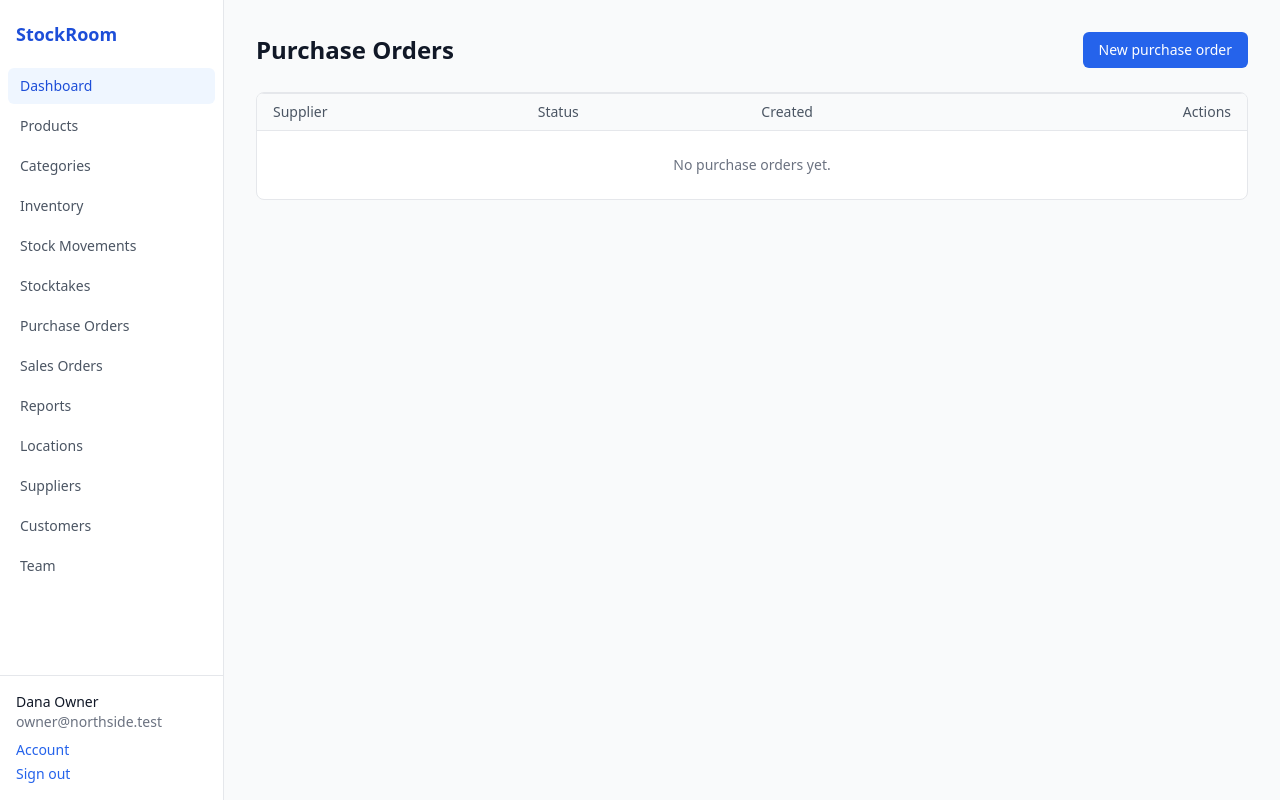
Test: PurchaseOrdersPage create form (Owner-only) › keeps the form open with the server's message when the save fails
expect the text "No purchase orders yet." is shown: met, box [257,130,1247,199]
Click the button "New purchase order": [1165, 50] box [1083,32,1248,68]
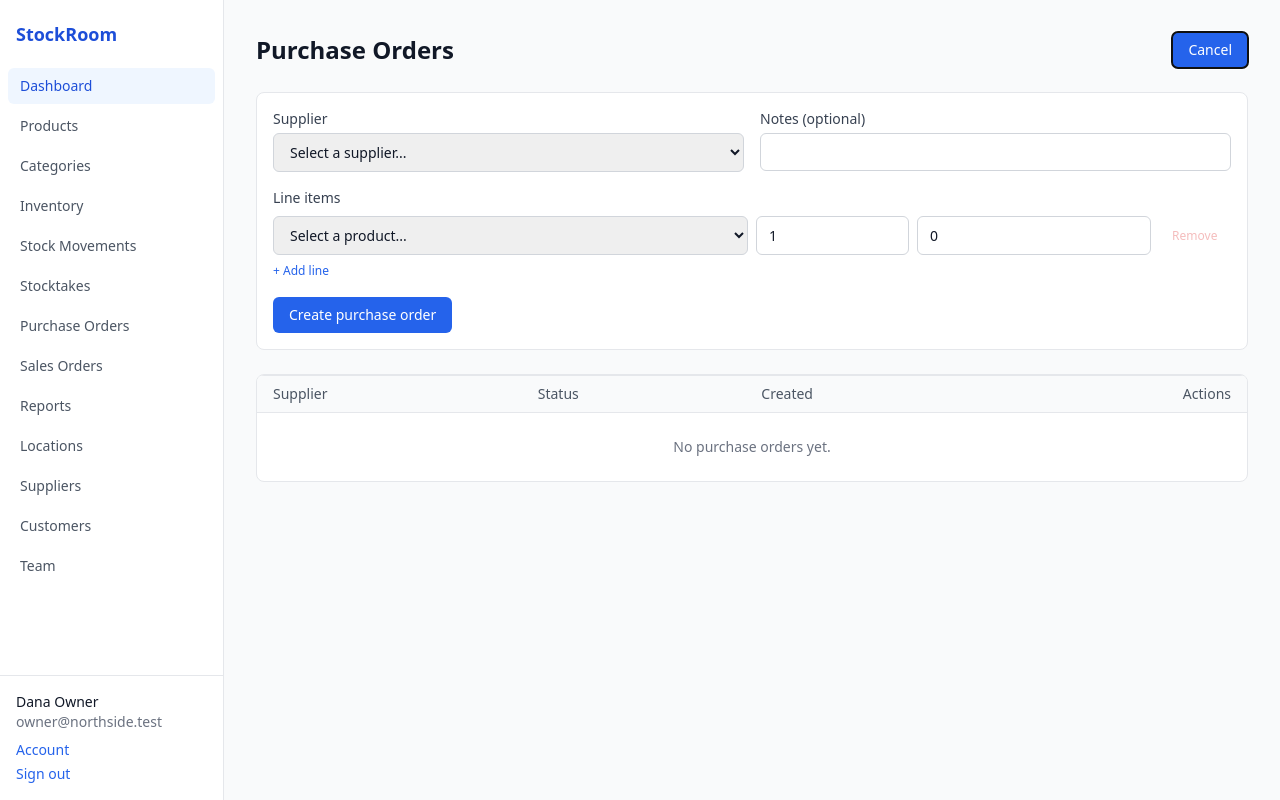
Select "Acme Supplies" in the dropdown labelled "Supplier": [508, 152] box [273,133,744,172]
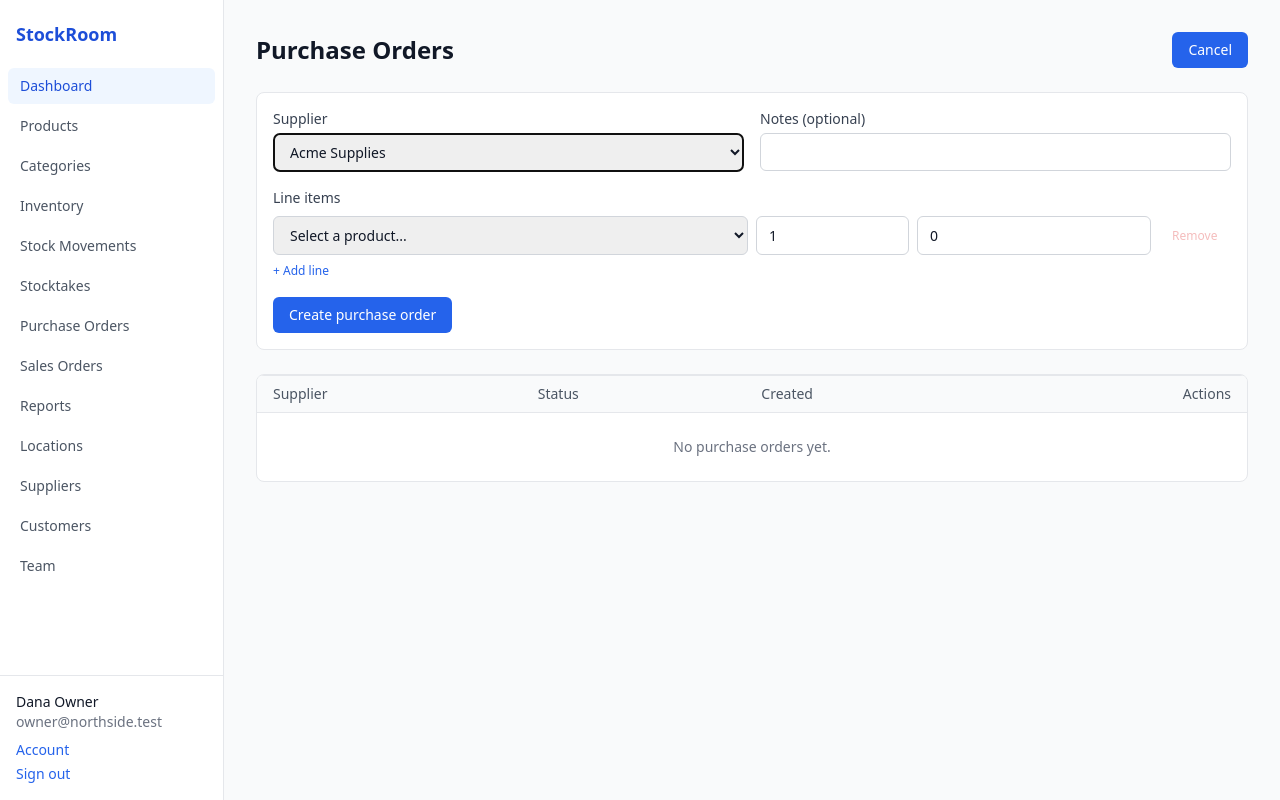
Select "Widget (WID-1)" in the 2nd dropdown: [510, 236] box [273,216,748,255]
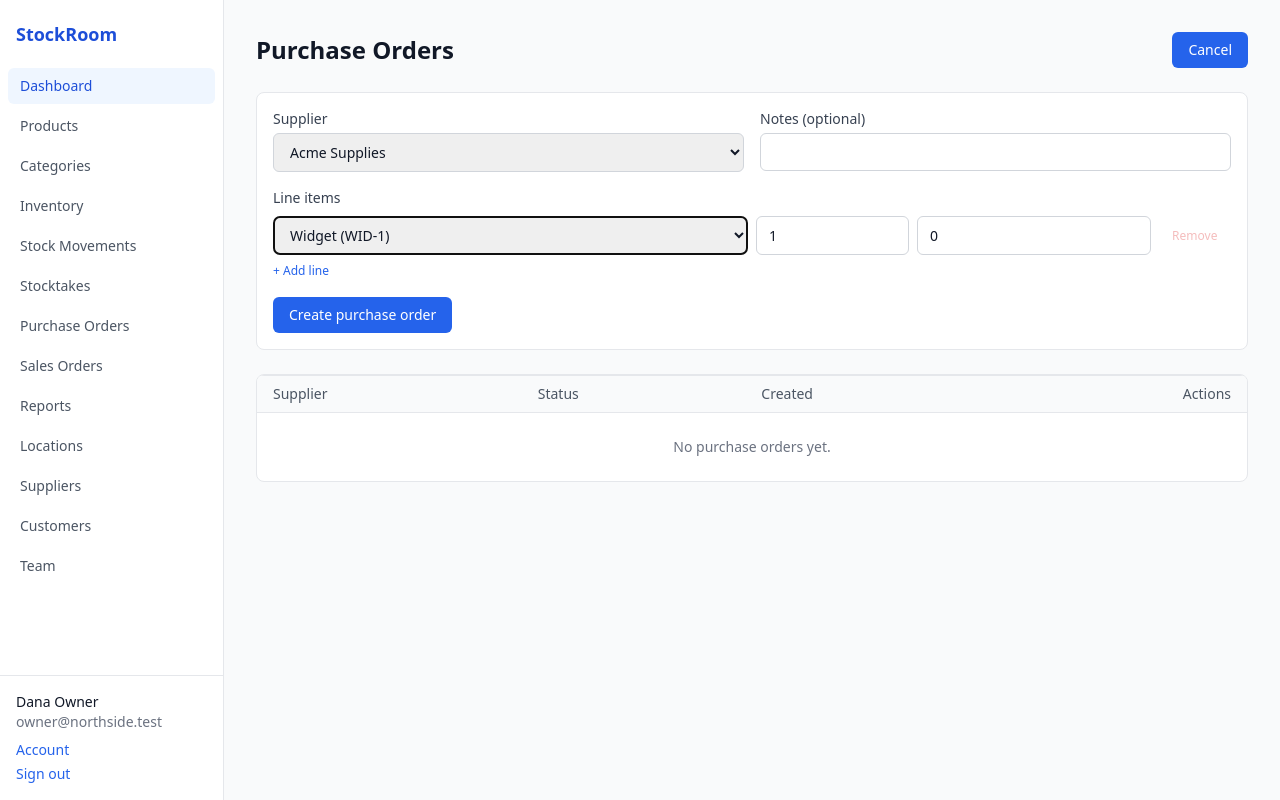
Click the button "Create purchase order": [363, 315] box [273,297,452,333]
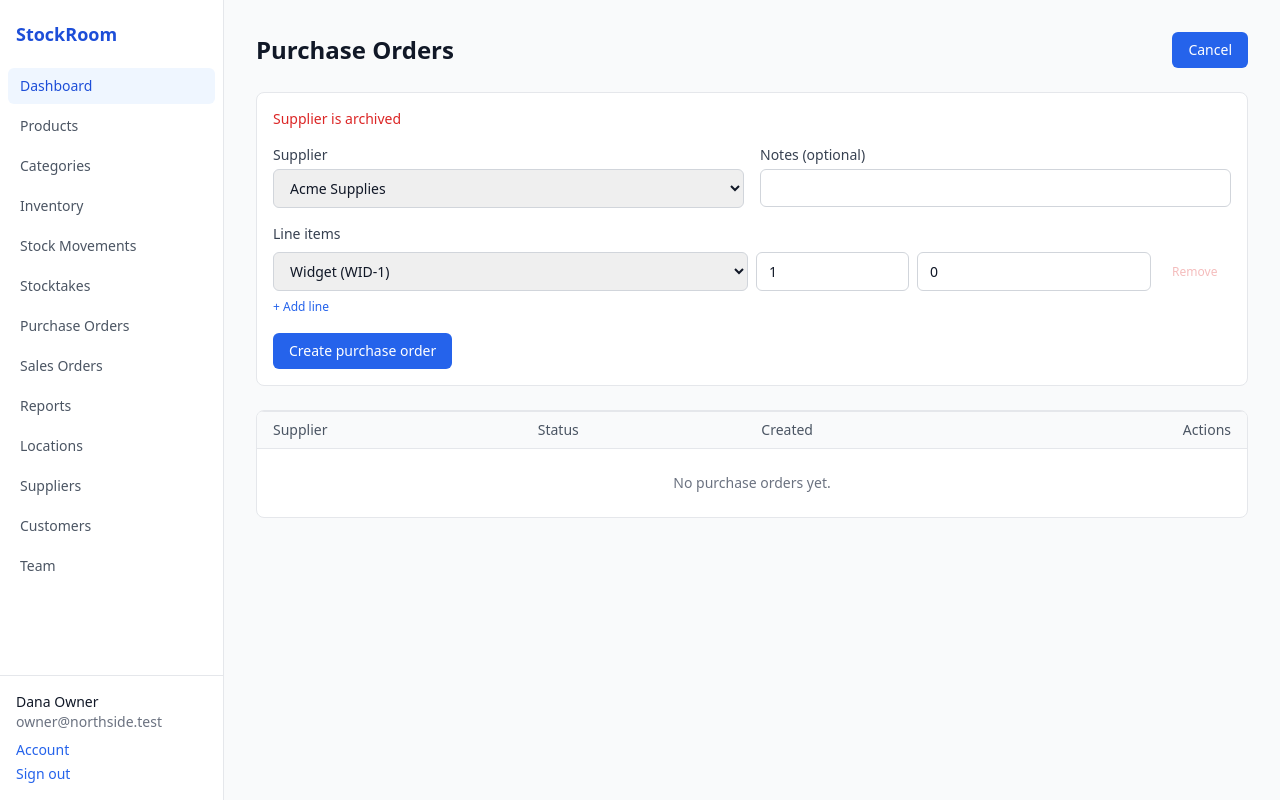
expect the text "Supplier is archived" is shown: met, box [273,109,401,128]
